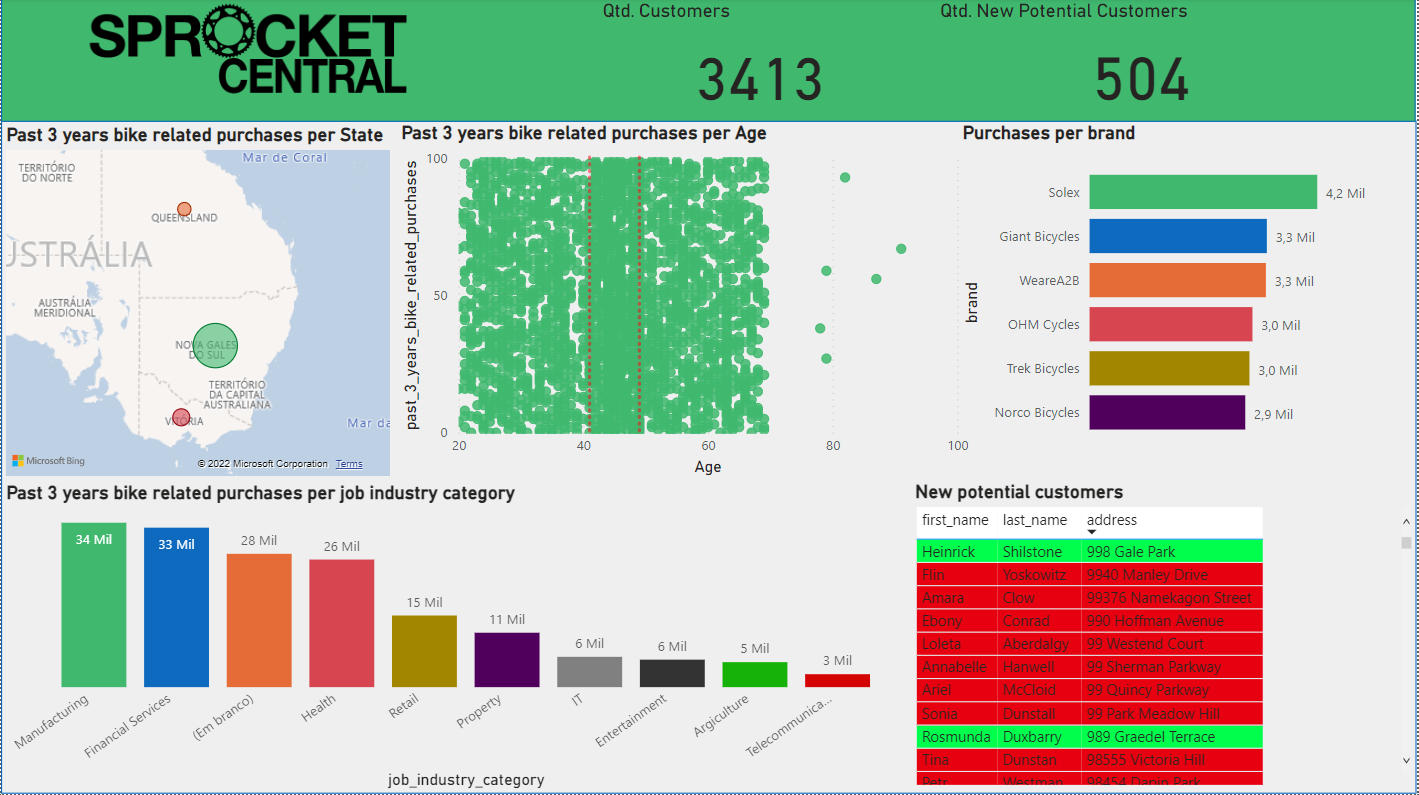

What the dashboard file says about the page in this screenshot:
{"tool":"powerbi","page":{"name":"Página 1","canvas":[1280,720],"ordinal":0},"visuals":[{"type":"shape","box":[0,110.5,1280,608.6],"z":0},{"type":"shape","box":[0,0,1279.5,111.9],"z":1000},{"type":"scatterChart","title":"Past 3 years bike related purchases per Age","fields":{"X":["Sheet1.Age"],"Y":["Sheet1.past_3_years_bike_related_purchases"]},"box":[357.2,111.7,522.5,324.7],"z":2000},{"type":"map","title":"Past 3 years bike related purchases per State","fields":{"Category":["Sheet1.state"],"Size":["Sheet1.past_3_years_bike_related_purchases"]},"box":[0,112.9,357.2,324.7],"z":3000},{"type":"columnChart","title":"Past 3 years bike related purchases per job industry category","fields":{"Y":["Sheet1.past_3_years_bike_related_purchases"],"Category":["Sheet1.job_industry_category"]},"box":[0,437.4,821.7,282.6],"z":4000},{"type":"tableEx","title":"New potential customers","fields":{"Values":["Sheet1 (2).first_name","Sheet1 (2).last_name","Sheet1 (2).address"]},"box":[821.5,436.4,458.5,280.4],"z":5000},{"type":"image","box":[0,0,455,111.7],"z":6000},{"type":"card","title":"Qtd. Customers","fields":{"Values":["Sheet1.customer_id"]},"box":[538.8,1.2,295.6,111.7],"z":7000},{"type":"card","title":"Qtd. New Potential Customers","fields":{"Values":["Sheet1 (2).Return_Potential"]},"box":[844.6,1.4,372.2,111.2],"z":8000},{"type":"barChart","title":"Purchases per brand","fields":{"Category":["Sheet1 (3).brand"],"Y":["Sheet1 (3).brand"]},"box":[864.6,111.7,415.4,300.2],"z":8001}]}

Visuals, with their boxes in screenshot pixels (x1, y1, x2, y2), scaled from the page's 1280x720 canvas onto the 1419x795 screenshot:
shape: crop(0, 122, 1418, 794)
shape: crop(0, 0, 1418, 124)
"Past 3 years bike related purchases per Age" scatterChart: crop(396, 123, 975, 482)
"Past 3 years bike related purchases per State" map: crop(0, 125, 396, 483)
"Past 3 years bike related purchases per job industry category" columnChart: crop(0, 483, 911, 794)
"New potential customers" tableEx: crop(911, 482, 1418, 791)
image: crop(0, 0, 504, 123)
"Qtd. Customers" card: crop(597, 1, 925, 125)
"Qtd. New Potential Customers" card: crop(936, 2, 1349, 124)
"Purchases per brand" barChart: crop(958, 123, 1418, 455)
